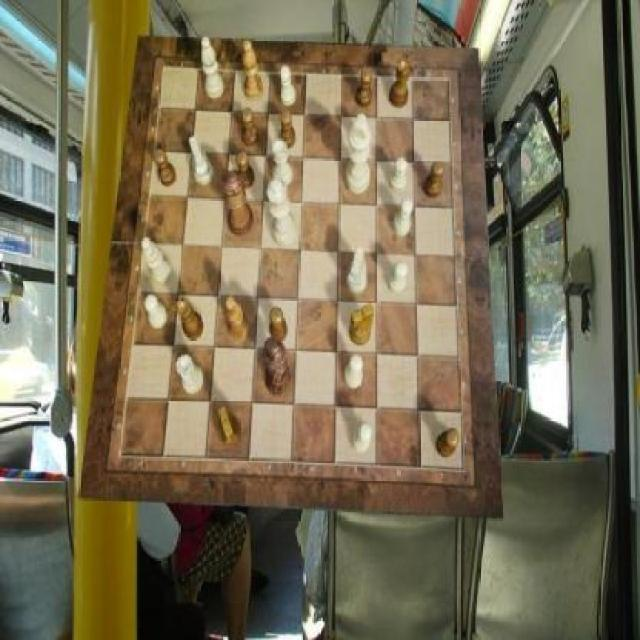bishop: (242, 40, 262, 102), (226, 295, 251, 341)
black-bishop: (263, 337, 291, 397)
black-king: (349, 303, 374, 345), (218, 408, 242, 448)
black-knight: (154, 149, 177, 188), (423, 162, 445, 198), (436, 429, 460, 458), (236, 151, 254, 189), (243, 108, 260, 148), (280, 111, 297, 151), (357, 69, 374, 108), (271, 308, 288, 342)
black-pawn: (221, 169, 254, 237)
black-queen: (177, 297, 205, 339), (390, 60, 412, 109)
black-rook: (142, 237, 172, 285), (202, 37, 224, 99)
white-bishop: (346, 119, 371, 194)
white-king: (189, 137, 214, 186), (346, 248, 367, 294)
white-knight: (144, 294, 168, 328), (394, 199, 414, 236), (280, 66, 297, 106), (388, 261, 408, 294), (352, 114, 368, 154), (352, 423, 372, 454), (389, 159, 407, 193), (345, 354, 362, 388)
white-pawn: (268, 177, 298, 246)
white-queen: (177, 354, 205, 394), (272, 140, 293, 188)
